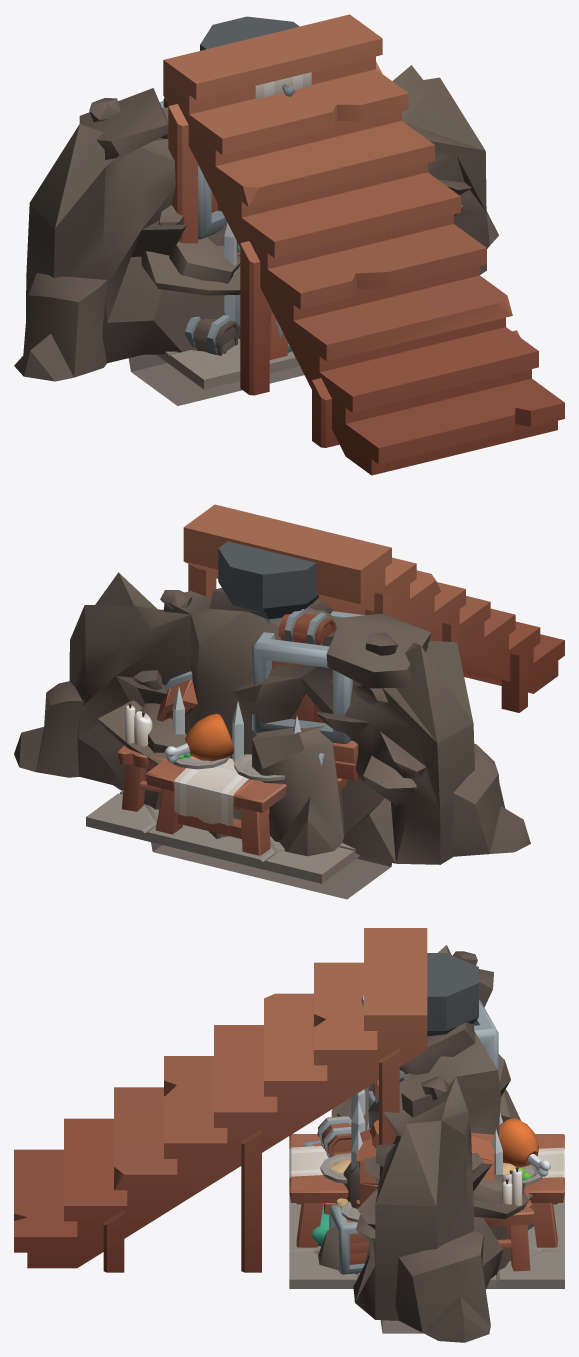
Rendered from masmorra.glb.
3 renders of one model, top to bottom at view 1: azimuth 30°, elevation 25°; view 2: azimuth 150°, elevation 25°; view 3: azimuth 270°, elevation 25°, orthographic. The views are drawn at different scales.
Visible parts, largest first — view 1: stairs_wood, rubble_large, box_stacked, floor_tile_grate, Cube.14376, pillar, pillar_decorated, spikes, table_long_tablecloth_decorated_A; view 2: rubble_large, stairs_wood, table_long_tablecloth_decorated_A, Cube.14376, box_stacked, pillar, floor_tile_grate, bed_decorated, keg_decorated, pillar_decorated, spikes; view 3: stairs_wood, rubble_large, table_long_tablecloth_decorated_A, Cube.14376, bed_decorated, box_stacked, pillar, pillar_decorated, keg_decorated, spikes, floor_tile_grate.
Boxes of the visible parts, x1,y1,x2,y2 form: stairs_wood: [163, 14, 564, 475]; rubble_large: [14, 65, 498, 381]; box_stacked: [159, 98, 291, 355]; floor_tile_grate: [128, 351, 304, 405]; Cube.14376: [159, 338, 299, 389]; pillar: [200, 16, 298, 50]; pillar_decorated: [200, 17, 311, 99]; spikes: [224, 223, 236, 321]; table_long_tablecloth_decorated_A: [239, 294, 288, 359]; rubble_large: [14, 572, 530, 864]; stairs_wood: [183, 504, 564, 712]; table_long_tablecloth_decorated_A: [146, 713, 286, 855]; Cube.14376: [86, 790, 359, 883]; box_stacked: [208, 609, 364, 838]; pillar: [218, 541, 318, 617]; floor_tile_grate: [120, 791, 391, 899]; bed_decorated: [117, 703, 269, 813]; keg_decorated: [156, 671, 358, 790]; pillar_decorated: [218, 541, 314, 623]; spikes: [173, 687, 301, 762]; stairs_wood: [14, 928, 427, 1272]; rubble_large: [318, 945, 532, 1342]; table_long_tablecloth_decorated_A: [289, 1118, 564, 1247]; Cube.14376: [289, 1178, 564, 1288]; bed_decorated: [324, 1167, 534, 1274]; box_stacked: [301, 999, 533, 1246]; pillar: [427, 956, 478, 1033]; pillar_decorated: [361, 953, 478, 1128]; keg_decorated: [356, 1128, 494, 1208]; spikes: [351, 1089, 502, 1174]; floor_tile_grate: [358, 1273, 495, 1333].
Bounding box in the file's own units: 8.13 × 5.03 × 8.
Materials: 1 (1 with a texture image).
